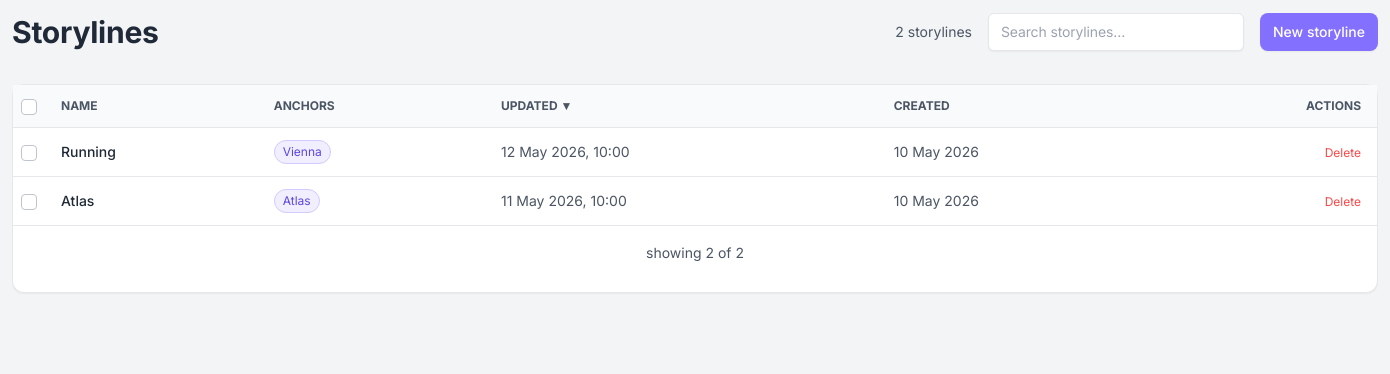
Test: StorylineListView › header checkbox toggles selection for all rows on the current page
The width and height of the screenshot is (1390, 374).
Click the checkbox with test id "select-all-checkbox": coordinates (29, 107) x1=21 y1=99 x2=37 y2=115
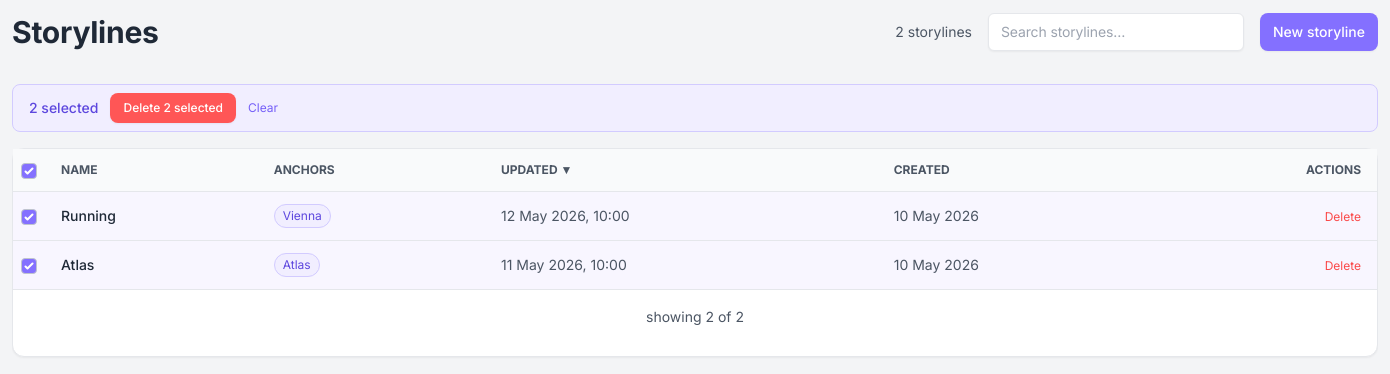
Result: the element with test id "selection-toolbar" is shown at x1=12 y1=84 x2=1378 y2=132
Result: the element with test id "selection-toolbar" shows "2 selected" at x1=29 y1=99 x2=98 y2=116
